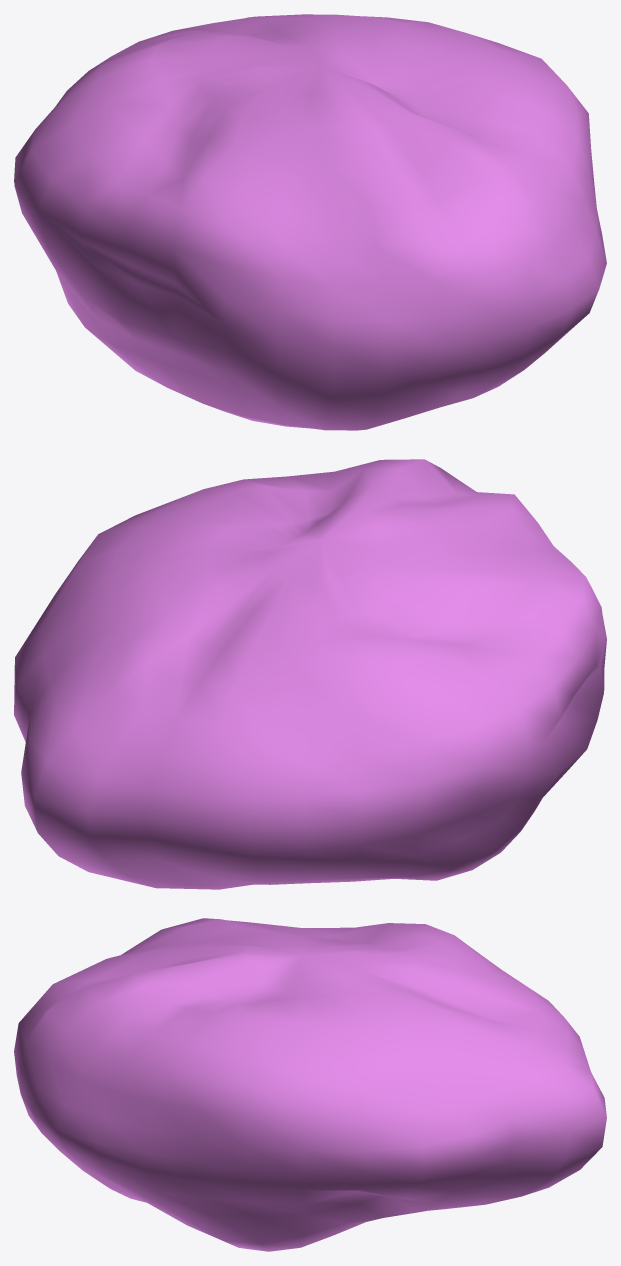
File: gumChewed1.fbx
3 renders of one model, top to bottom at view 1: azimuth 30°, elevation 25°; view 2: azimuth 150°, elevation 25°; view 3: azimuth 270°, elevation 25°, orthographic. The views are drawn at different scales.
Visible parts, largest first — view 1: gumChewed1; view 2: gumChewed1; view 3: gumChewed1.
Part boxes in pixels (x1,y1,x2,y2): gumChewed1: (14,14,606,430); gumChewed1: (14,459,606,889); gumChewed1: (14,918,606,1251).
Size of the model in its own units: 164 by 95.47 by 207.
